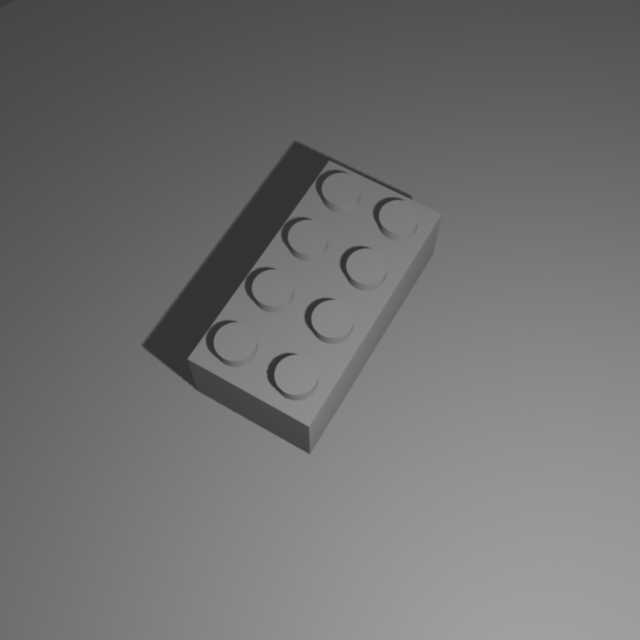lego_2x4: (186, 153, 444, 454)
